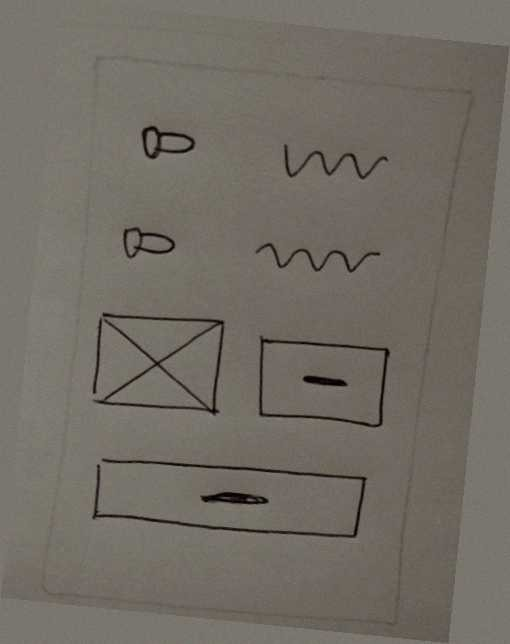button: (81, 447, 374, 560), (244, 327, 403, 441)
image: (83, 302, 235, 428)
switch: (130, 113, 207, 179), (111, 212, 186, 276)
text: (243, 225, 387, 295), (268, 129, 398, 195)
